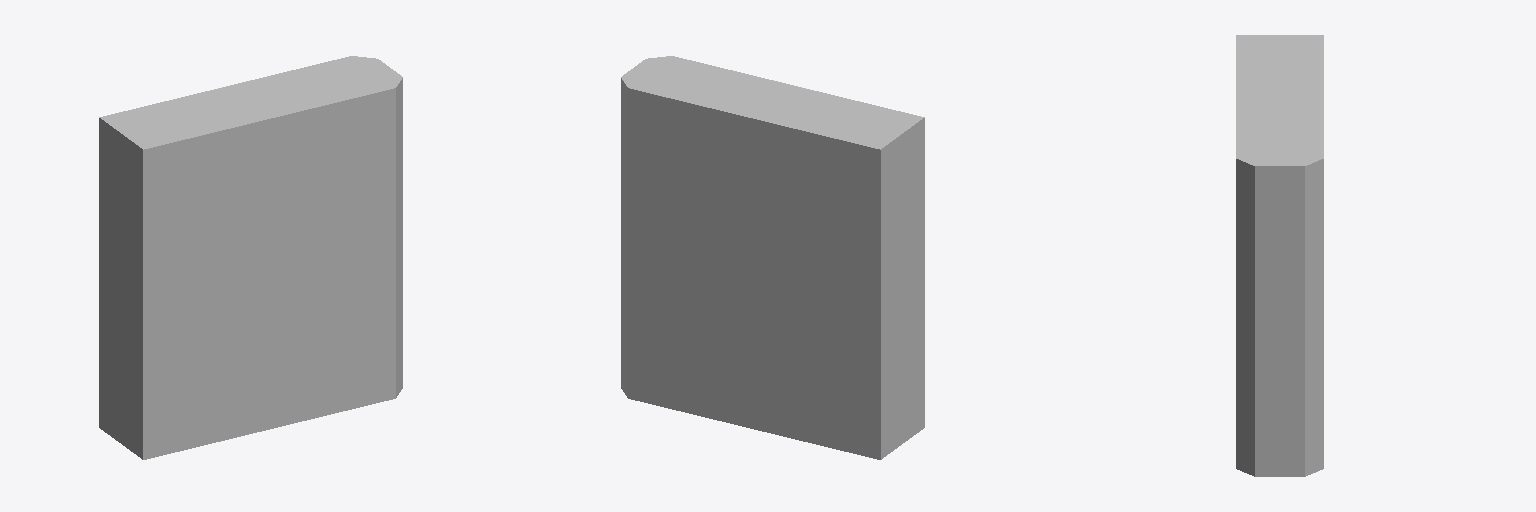
The model's file is book.obj.
The picture shows the model from 3 angles: view 1: azimuth 30°, elevation 25°; view 2: azimuth 150°, elevation 25°; view 3: azimuth 270°, elevation 25°; orthographic projection.
Parts seen in each view (by area): view 1: room0_shelf.000_Plane.016; view 2: room0_shelf.000_Plane.016; view 3: room0_shelf.000_Plane.016.
Boxes of the visible parts, box(x1,y1,x2,y2) form: room0_shelf.000_Plane.016: box(99, 56, 402, 459); room0_shelf.000_Plane.016: box(621, 56, 924, 459); room0_shelf.000_Plane.016: box(1236, 35, 1323, 476).
Size of the model in its own units: 0.244 by 0.2689 by 0.0693.